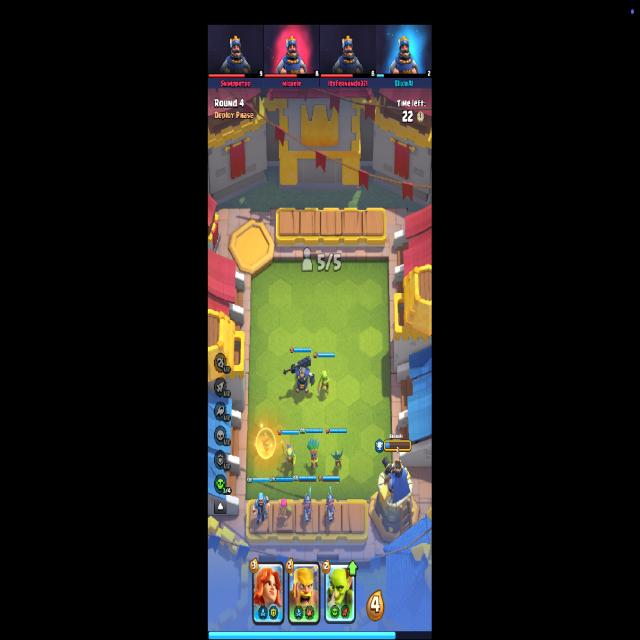archer: (278, 498, 292, 523)
card_barbarian: (288, 560, 320, 626)
card_goblin: (324, 560, 356, 624)
card_valkyrie: (252, 561, 284, 625)
dart_goblin: (307, 439, 320, 470), (331, 448, 345, 470)
goblin: (317, 370, 330, 397)
musketeer: (303, 487, 314, 522), (326, 486, 336, 524)
skeleton_king: (284, 356, 316, 394)
spear_goblin: (281, 439, 297, 471)
wizard: (252, 493, 270, 525)
